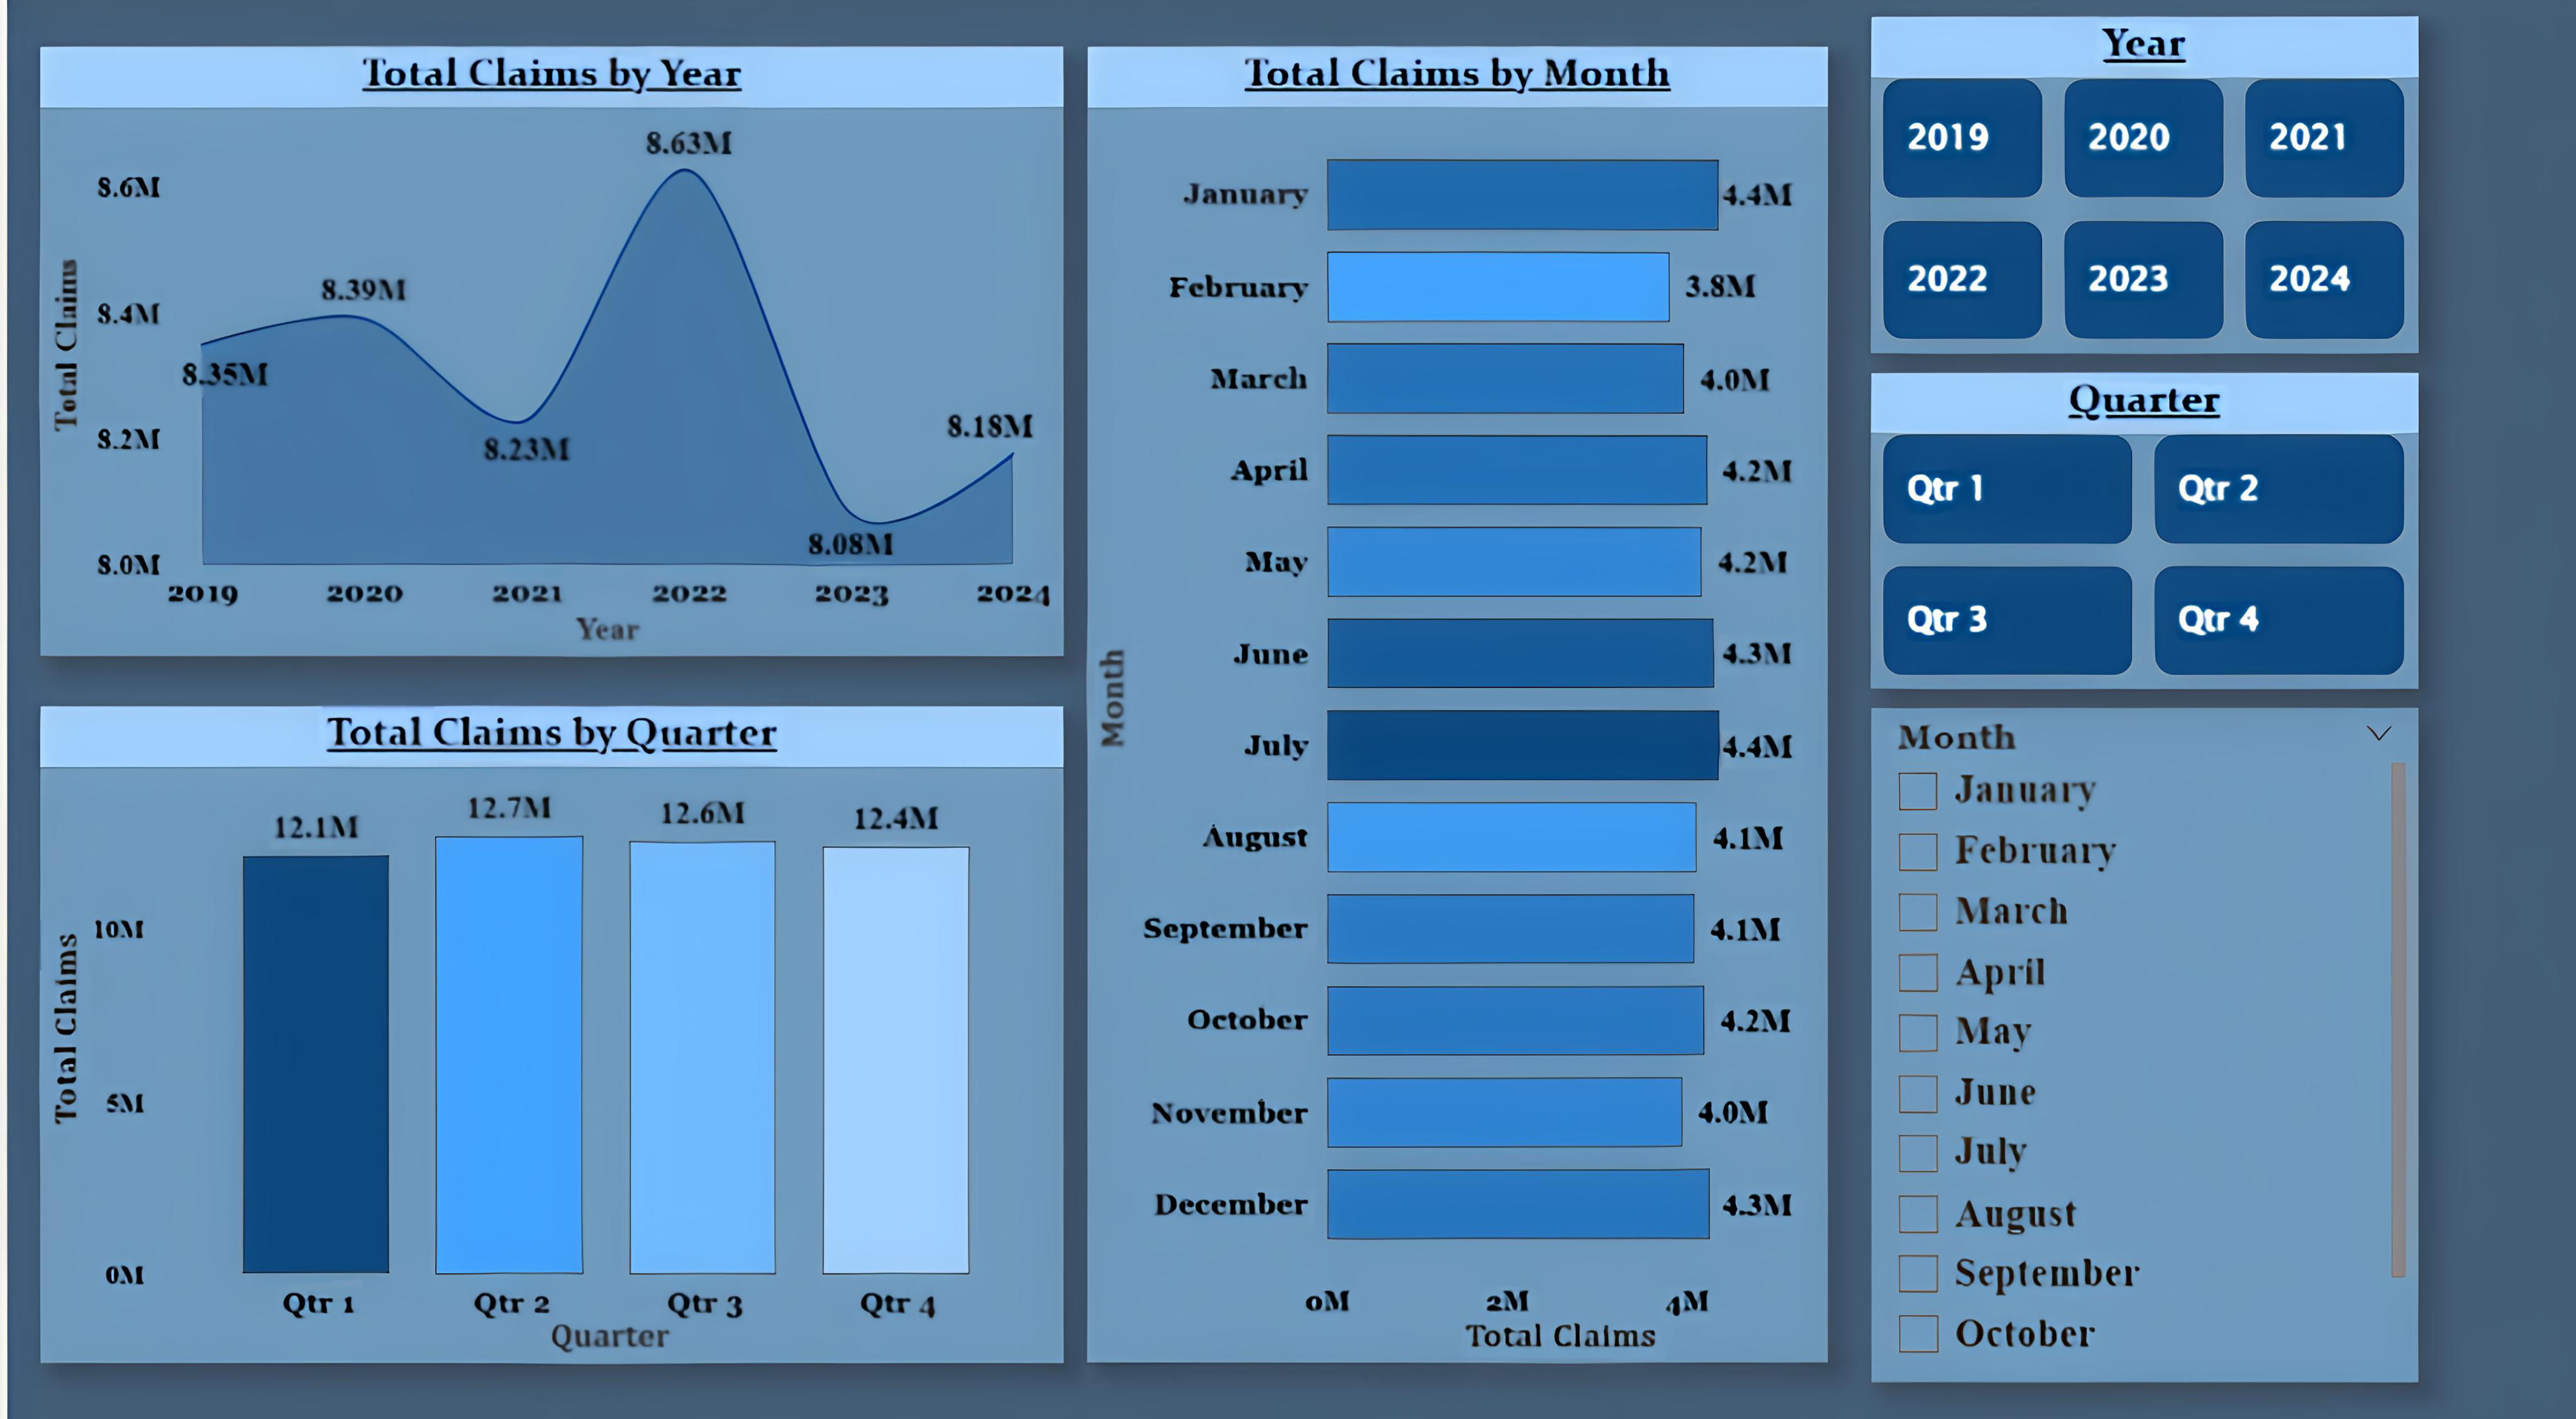

What the dashboard file says about the page in this screenshot:
{"tool":"powerbi","page":{"name":"Page 4","canvas":[1280,720],"ordinal":4},"visuals":[{"type":"areaChart","fields":{"Y":["Insurance.Total Claims"],"Category":["Insurance.PolicyStartDate.Variation.Date Hierarchy.Year"]},"box":[16.5,31.6,509.1,303.3],"z":0},{"type":"columnChart","fields":{"Category":["Insurance.PolicyStartDate.Variation.Date Hierarchy.Quarter"],"Y":["Insurance.Total Claims"]},"box":[16.5,359.5,509.1,326.6],"z":1000},{"type":"slicer","fields":{"Values":["Insurance.PolicyStartDate.Variation.Date Hierarchy.Month"]},"box":[927.6,359.5,271.7,336.2],"z":2000},{"type":"advancedSlicerVisual","fields":{"Values":["Insurance.PolicyStartDate.Variation.Date Hierarchy.Year"]},"box":[927.6,16.5,271.7,167.4],"z":3000},{"type":"clusteredBarChart","fields":{"Category":["Insurance.PolicyStartDate.Variation.Date Hierarchy.Month"],"Y":["Insurance.Total Claims"]},"box":[537.9,31.6,367.8,654.5],"z":4000},{"type":"advancedSlicerVisual","fields":{"Values":["Insurance.PolicyStartDate.Variation.Date Hierarchy.Quarter"]},"box":[927.6,193.5,271.7,156.4],"z":5000}]}

Visuals, with their boxes in screenshot pixels (x1, y1, x2, y2), scaled from the page's 1280x720 canvas onto the 2576x1419 screenshot:
areaChart - Insurance.Total Claims x Insurance.PolicyStartDate.Variation.Date Hierarchy.Year: bbox=(33, 62, 1058, 660)
columnChart - Insurance.PolicyStartDate.Variation.Date Hierarchy.Quarter x Insurance.Total Claims: bbox=(33, 708, 1058, 1352)
slicer - Insurance.PolicyStartDate.Variation.Date Hierarchy.Month: bbox=(1867, 708, 2414, 1371)
advancedSlicerVisual - Insurance.PolicyStartDate.Variation.Date Hierarchy.Year: bbox=(1867, 33, 2414, 362)
clusteredBarChart - Insurance.PolicyStartDate.Variation.Date Hierarchy.Month x Insurance.Total Claims: bbox=(1082, 62, 1823, 1352)
advancedSlicerVisual - Insurance.PolicyStartDate.Variation.Date Hierarchy.Quarter: bbox=(1867, 381, 2414, 689)
